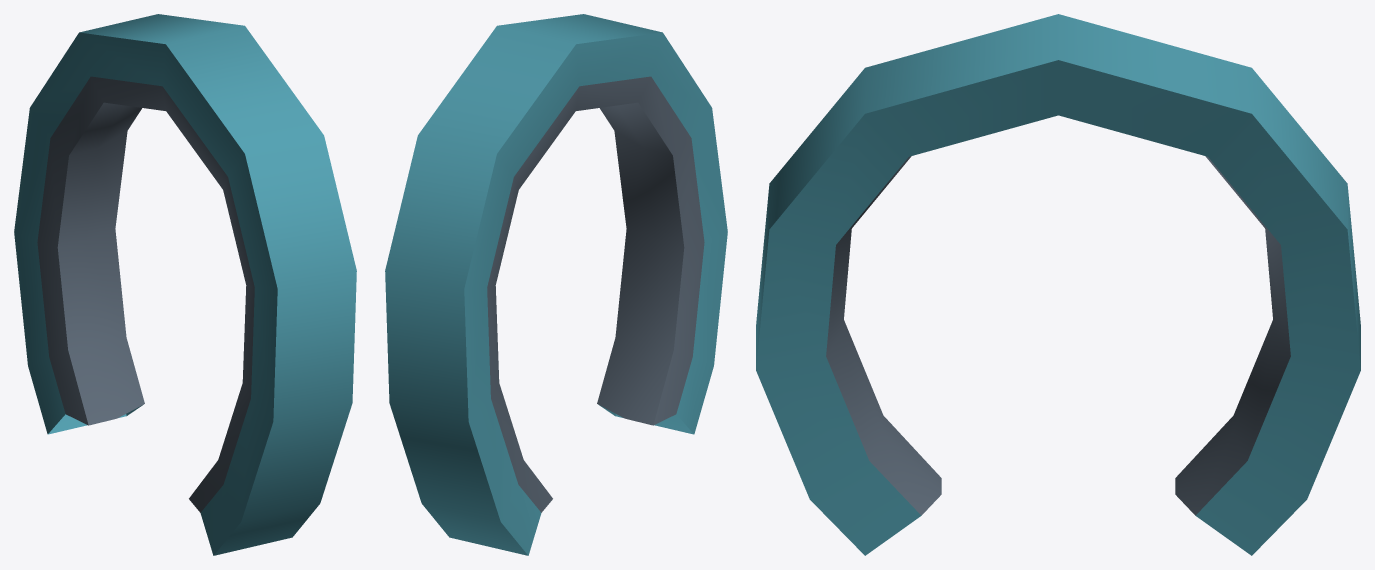
File: S5_BattleShip_Door_01_Lod3.fbx
The picture shows the model from 3 angles, left to right: view 1: azimuth 30°, elevation 25°; view 2: azimuth 150°, elevation 25°; view 3: azimuth 270°, elevation 25°; orthographic projection. The views are drawn at different scales.
Parts seen in each view (by area): view 1: S5_BattleShip_Door_01_Lod3; view 2: S5_BattleShip_Door_01_Lod3; view 3: S5_BattleShip_Door_01_Lod3.
Part boxes in pixels (x1,y1,x2,y2): S5_BattleShip_Door_01_Lod3: (14, 14, 356, 555); S5_BattleShip_Door_01_Lod3: (385, 14, 727, 555); S5_BattleShip_Door_01_Lod3: (756, 14, 1360, 555).
Size of the model in its own units: 202 by 749 by 794.
